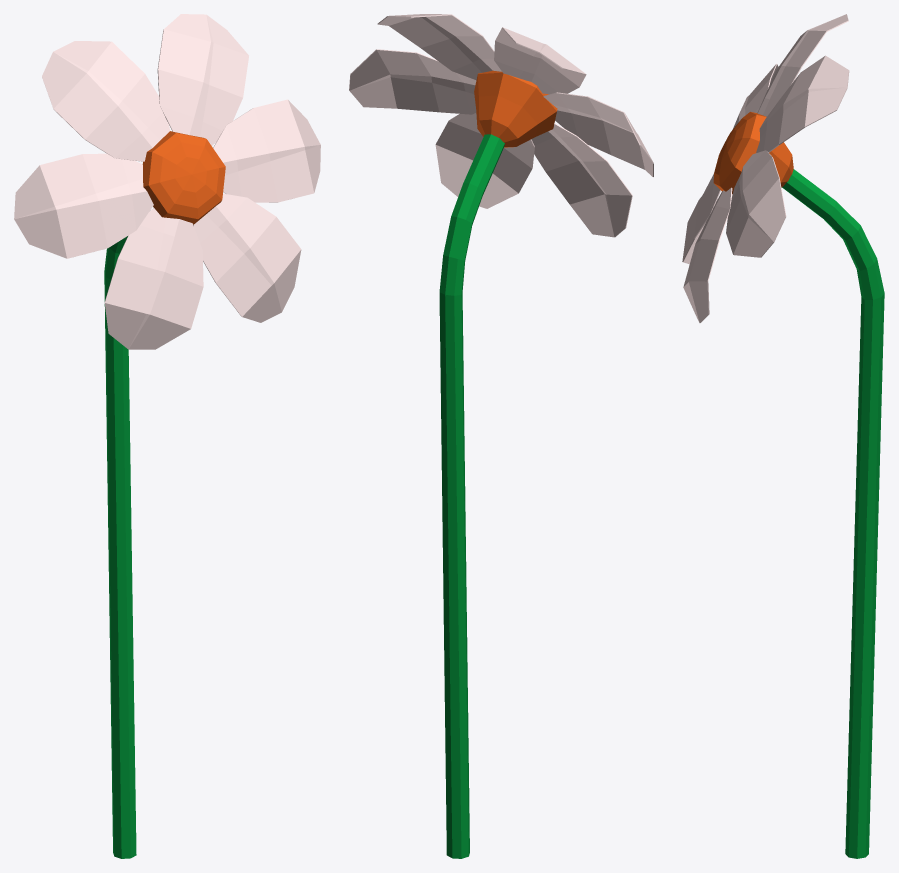
Rendered from Living_Room_flower3.fbx.
3 renders of one model, left to right at view 1: azimuth 30°, elevation 25°; view 2: azimuth 150°, elevation 25°; view 3: azimuth 270°, elevation 25°, orthographic. The views are drawn at different scales.
Parts seen in each view (by area): view 1: Living_Room_flower3; view 2: Living_Room_flower3; view 3: Living_Room_flower3.
Part boxes in pixels (x1=…): Living_Room_flower3: x1=14, y1=14, x2=320, y2=858; Living_Room_flower3: x1=349, y1=14, x2=653, y2=858; Living_Room_flower3: x1=682, y1=14, x2=884, y2=858.
Size of the model in its own units: 20.54 by 12.02 by 53.08.
